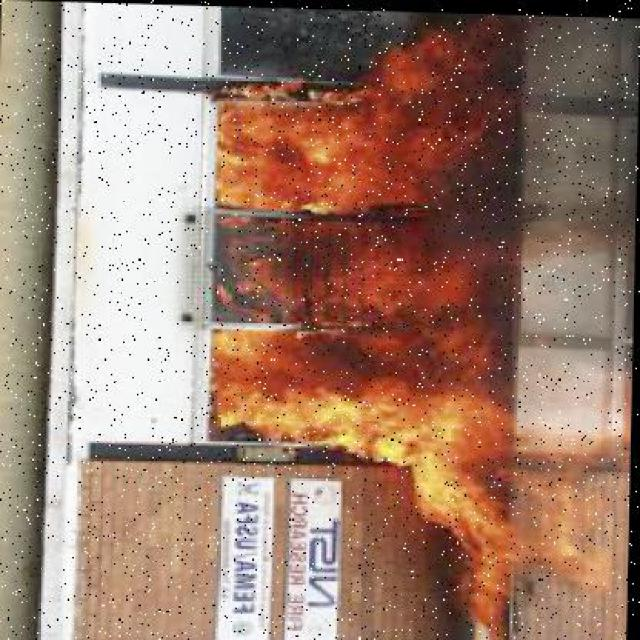fire: (213, 89, 622, 603)
